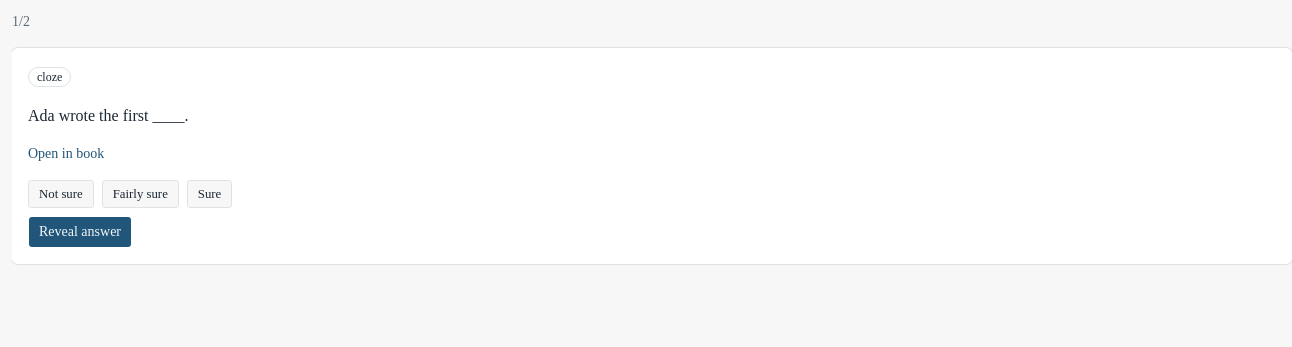
ReviewScreen session flow (E2) › grades each card, advances, and shows counts per rating in the summary
Expected: the text "Ada wrote the first ____." is shown, [28, 107, 188, 124]
Expected: the text with test id "position" reads "1/2", [12, 14, 30, 29]
Click the button "Reveal answer".
click(80, 232)  # box [28, 216, 132, 248]
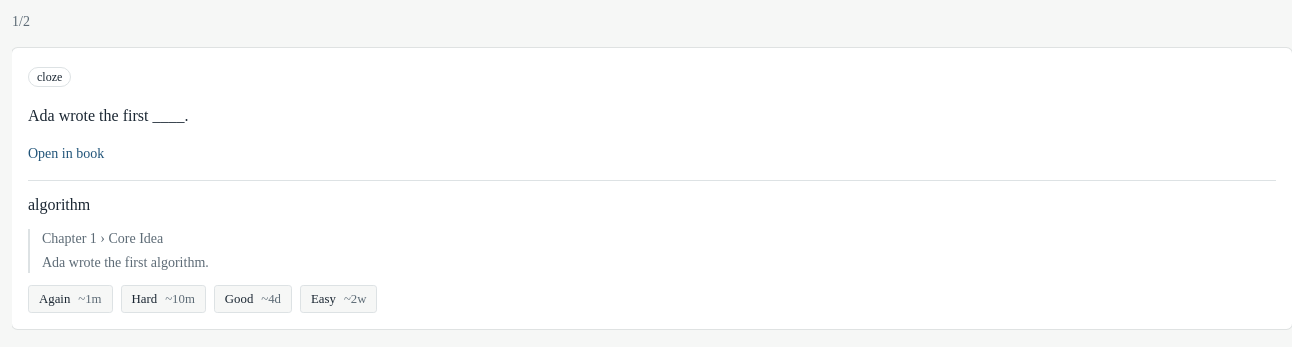
Click the button "Good ~4d".
click(253, 299)  # box [214, 285, 292, 313]
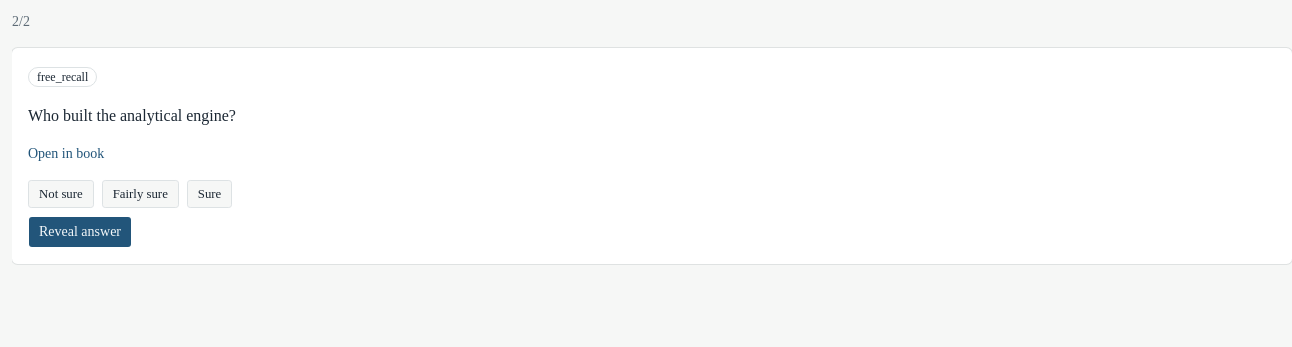
Expected: the text with test id "position" reads "2/2", [12, 14, 30, 29]
Expected: the text with test id "question" reads "Who built the analytical engine?", [28, 107, 236, 124]
Expected: the text with test id "answer" is gone
Card 2 → Again (rating 1).
Click the button "Reveal answer".
click(80, 232)  # box [28, 216, 132, 248]
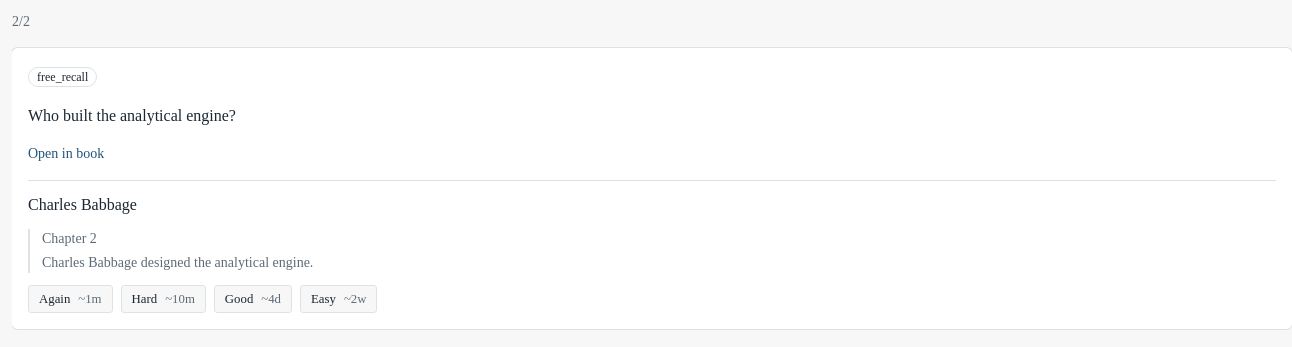
Click the button "Again ~1m".
click(70, 299)  # box [28, 285, 113, 313]
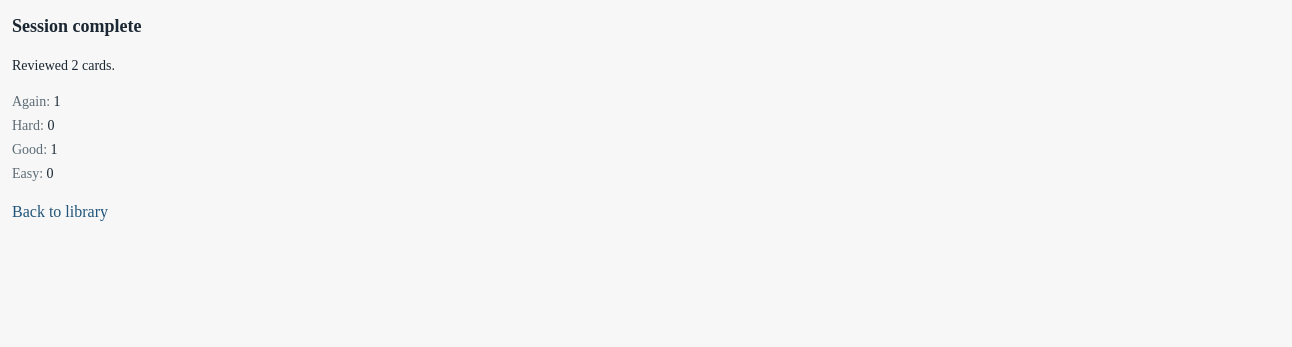
Expected: the text with test id "count-good" reads "1", [50, 142, 58, 157]
Expected: the heading "Session complete" is shown, [12, 16, 142, 36]
Expected: the text with test id "reviewed-total" shows "2", [12, 58, 115, 73]
